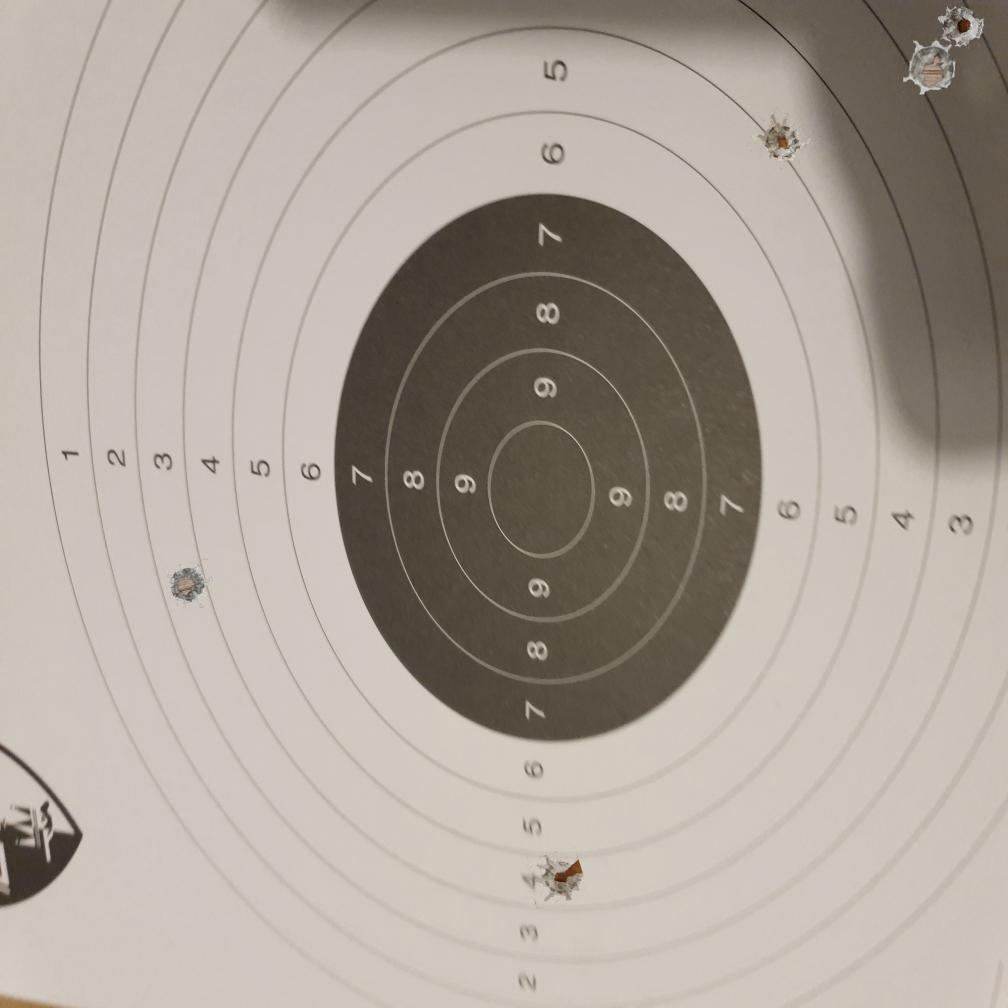2: (939, 4, 983, 47)
3: (902, 38, 958, 96)
4: (166, 562, 213, 610), (536, 855, 583, 902)
5: (755, 114, 808, 162)
Target: (37, 0, 1006, 1008)
black_contour: (335, 191, 762, 743)
